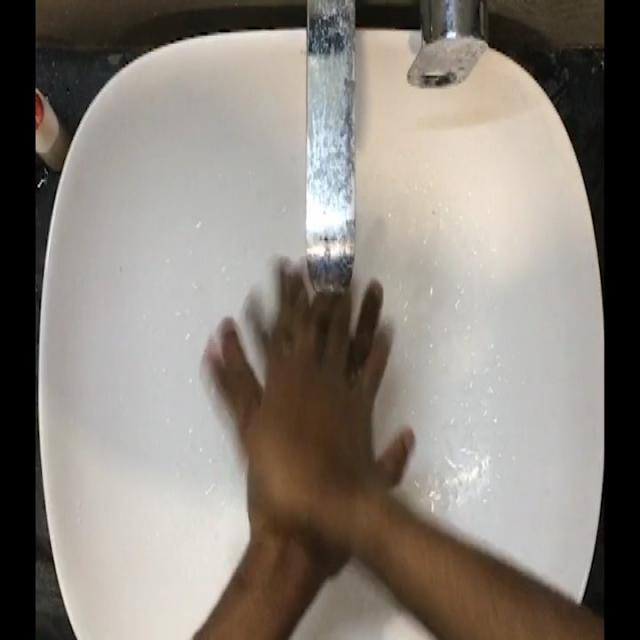step_2: (197, 240, 421, 558)
